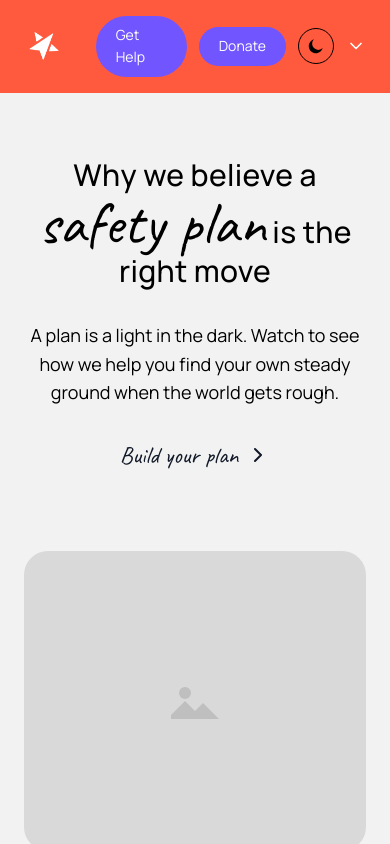
Test case: LanguageProvider › switches language from the mobile menu
The width and height of the screenshot is (390, 844).
Step 1. Click the button named "Toggle menu" → (356, 46), box 346,36 -> 366,56
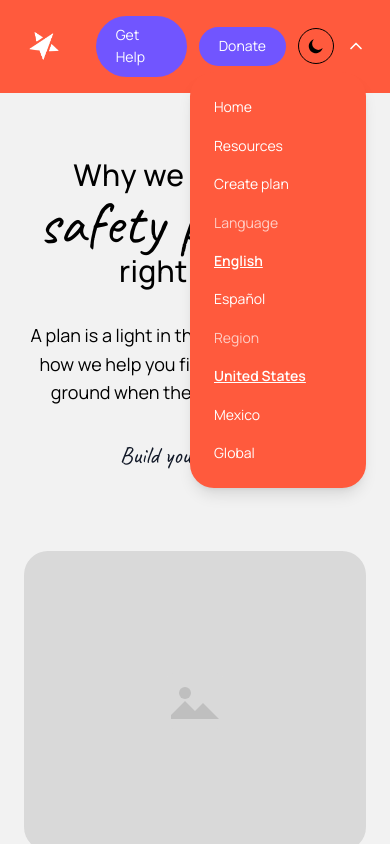
Step 2. Click the button "Español" → (278, 300), box 214,288 -> 342,311
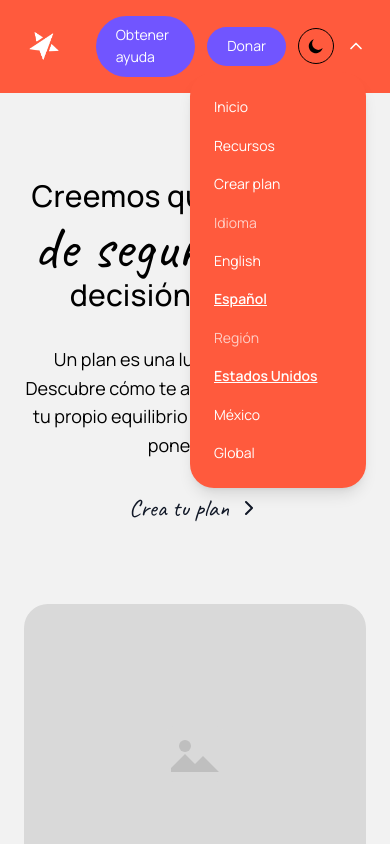
Expected: the text "Idioma" is shown, 214,213 -> 257,232
